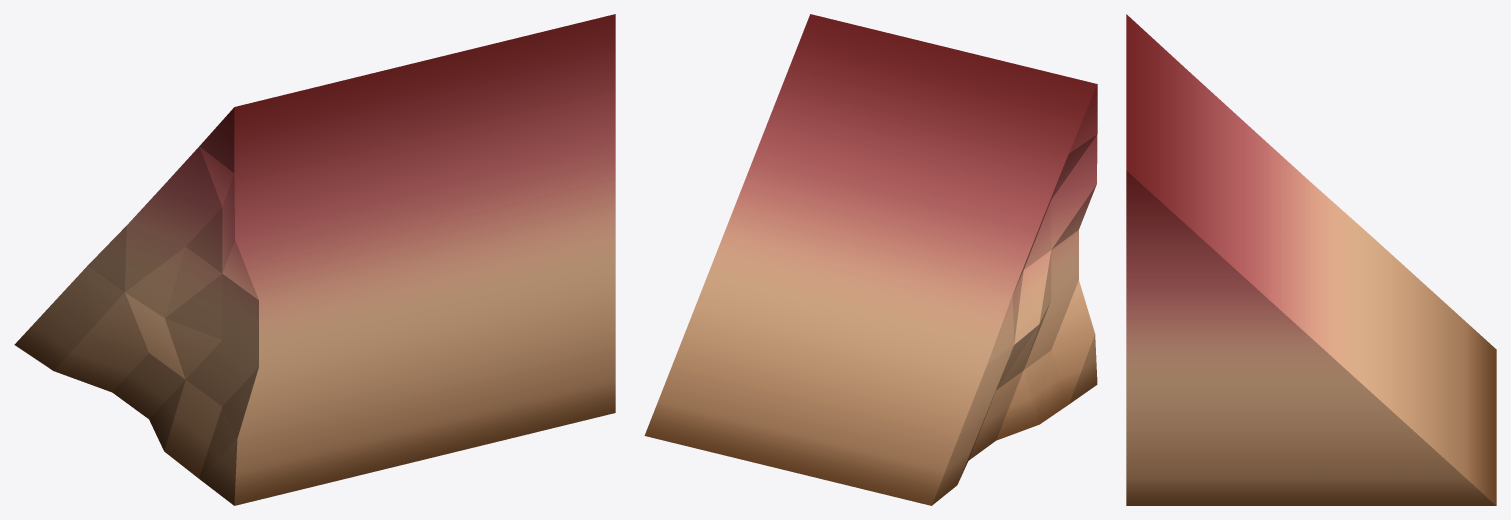
Rendered from ramp3.001.fbx.
3 renders of one model, left to right at view 1: azimuth 30°, elevation 25°; view 2: azimuth 150°, elevation 25°; view 3: azimuth 270°, elevation 25°, orthographic. The views are drawn at different scales.
Visible parts, largest first — view 1: ramp3.001; view 2: ramp3.001; view 3: ramp3.001.
Part boxes in pixels (x1,y1,x2,y2): ramp3.001: (14, 14, 615, 505); ramp3.001: (644, 14, 1097, 505); ramp3.001: (1126, 14, 1496, 505).
Size of the model in its own units: 100 by 100 by 100.
